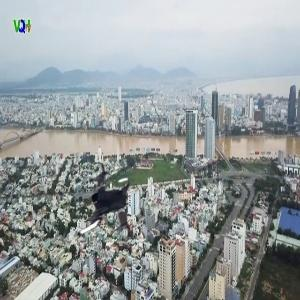drone: (54, 160, 148, 254)
